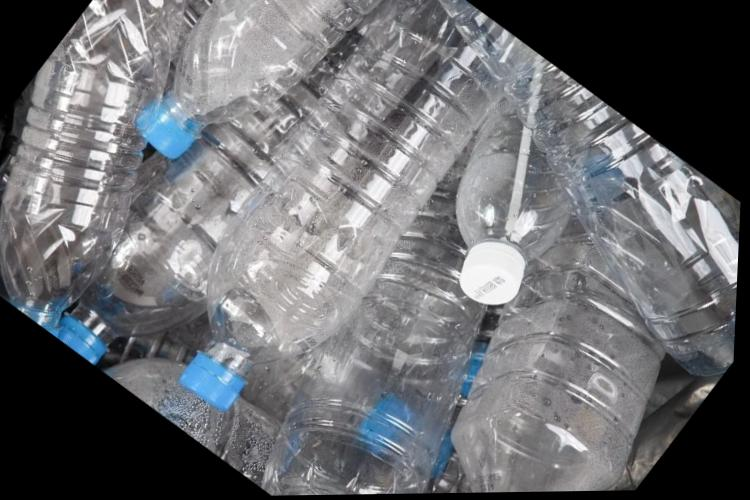plastic: (49, 0, 525, 466), (336, 0, 750, 386), (0, 0, 303, 342), (223, 210, 546, 496), (361, 237, 719, 494), (104, 0, 410, 210), (387, 108, 606, 327)
